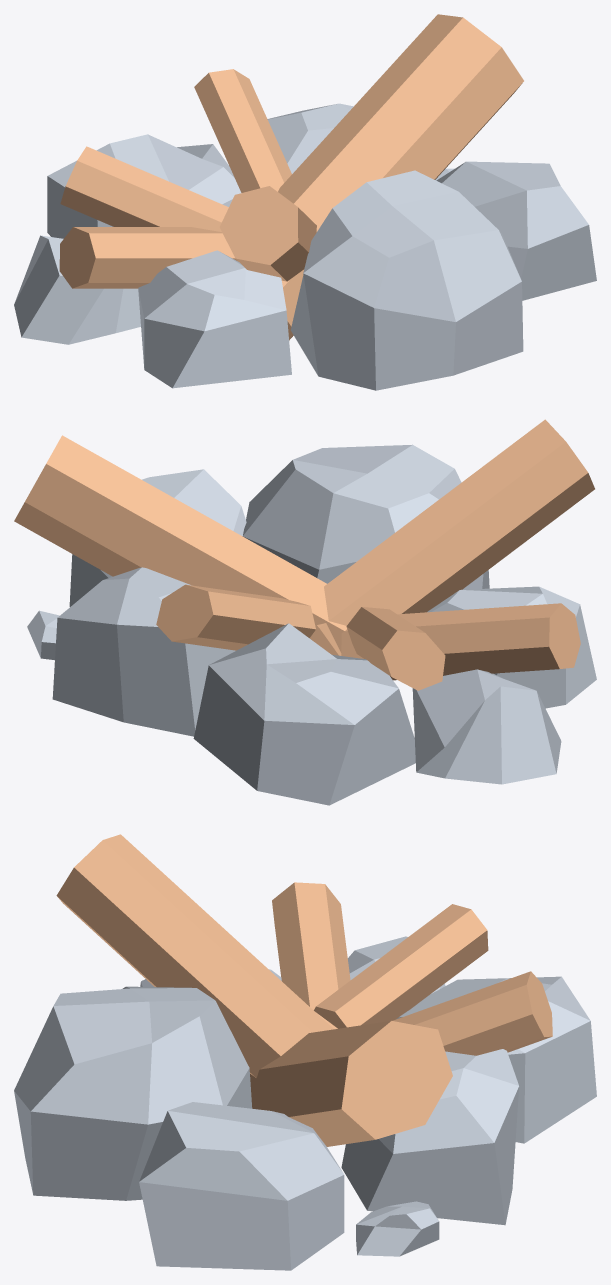
Rendered from fireplace.gltf.
The picture shows the model from 3 angles, top to bottom: view 1: azimuth 30°, elevation 25°; view 2: azimuth 150°, elevation 25°; view 3: azimuth 270°, elevation 25°; orthographic projection. The views are drawn at different scales.
Visible parts, largest first — view 1: Cube.001; view 2: Cube.001; view 3: Cube.001.
Part boxes in pixels (box(x1,y1,x2,y2)): Cube.001: box(14, 14, 596, 390); Cube.001: box(14, 419, 596, 805); Cube.001: box(14, 834, 596, 1270).
Size of the model in its own units: 6.51 by 2.93 by 5.79.
